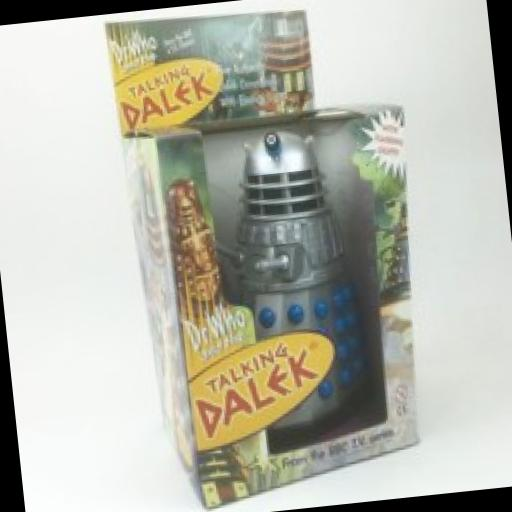dalek: (206, 121, 377, 437), (165, 170, 232, 334)
